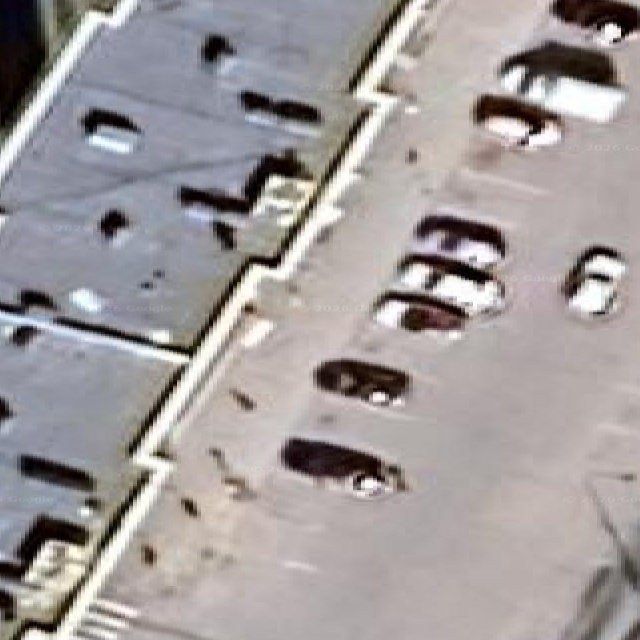car: (499, 42, 625, 122), (473, 95, 561, 148), (562, 247, 625, 316)
